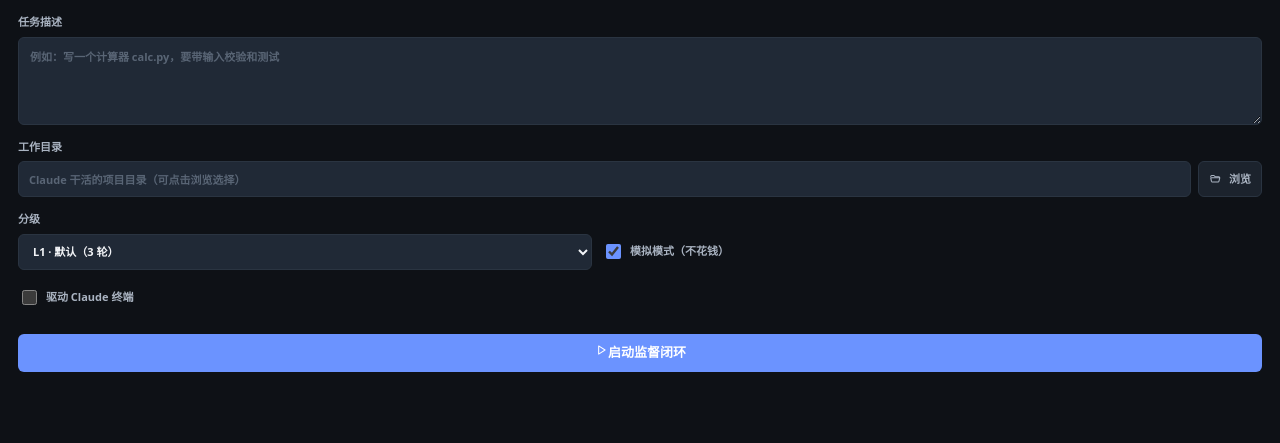
Test: SupervisePanel › 工作目录为空时提示且不提交
Step 1. Type "测试任务" into the text box with placeholder "例如：写一个计算器 calc.py，要带输入校验和测试" → [640, 80], box x1=18 y1=36 x2=1262 y2=124
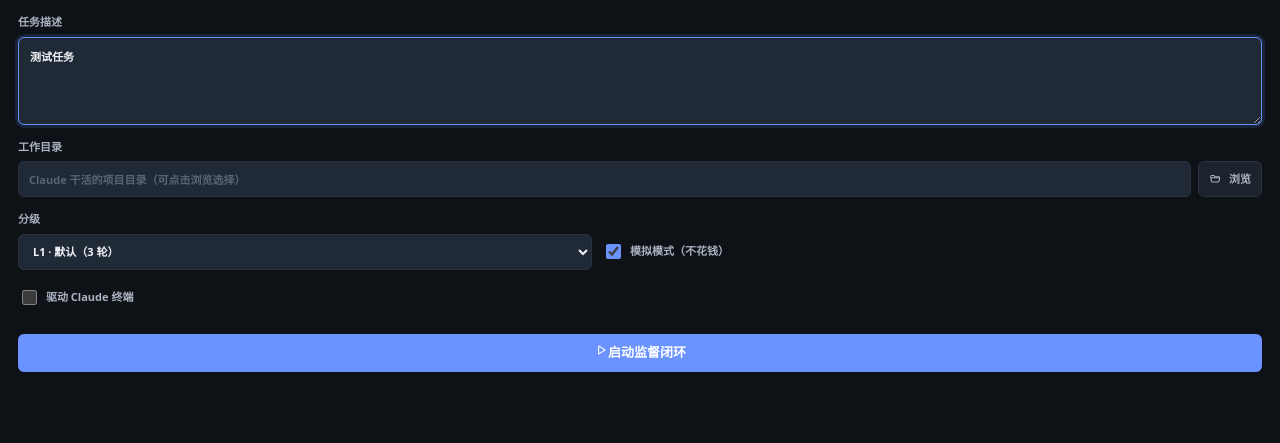
Step 2. Click the button "启动监督闭环" → [640, 352], box x1=18 y1=334 x2=1262 y2=372
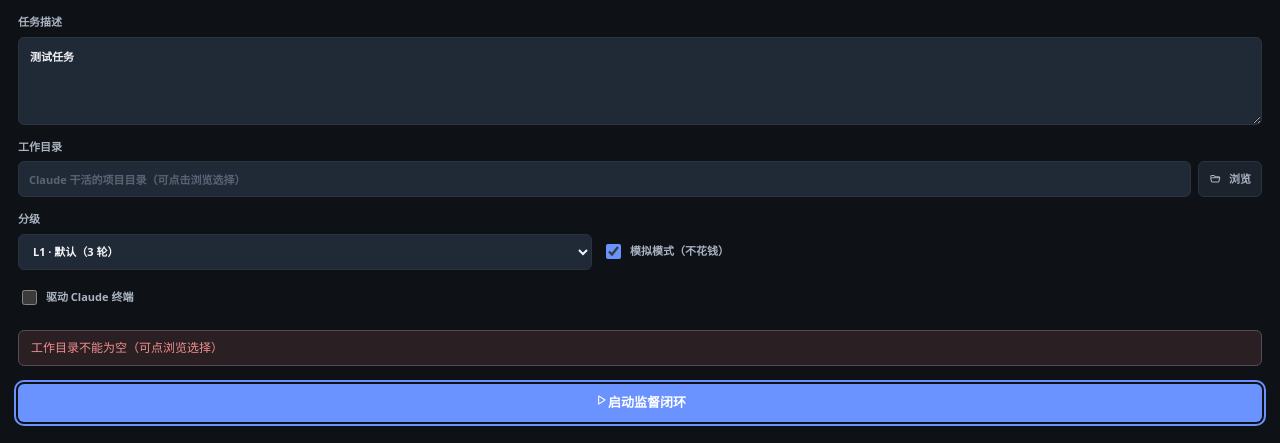
Expected: the text "工作目录不能为空（可点浏览选择）" is shown, x1=18 y1=330 x2=1262 y2=366
